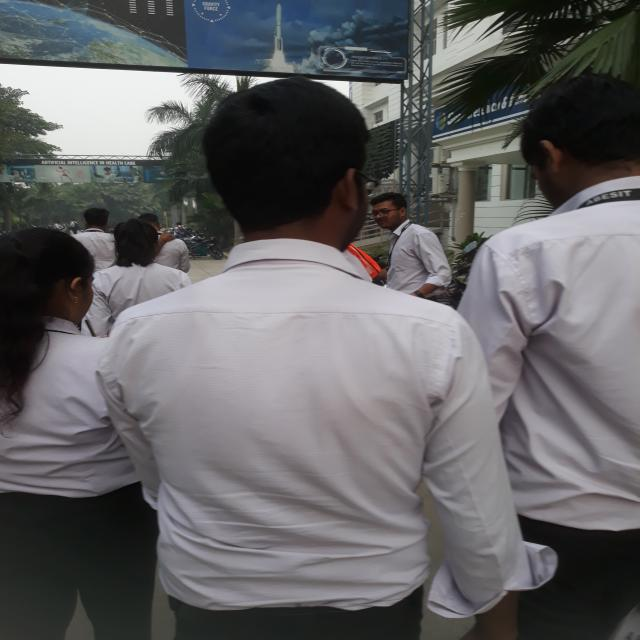unsafe: (112, 61, 520, 640), (470, 78, 640, 640), (5, 218, 164, 640)
